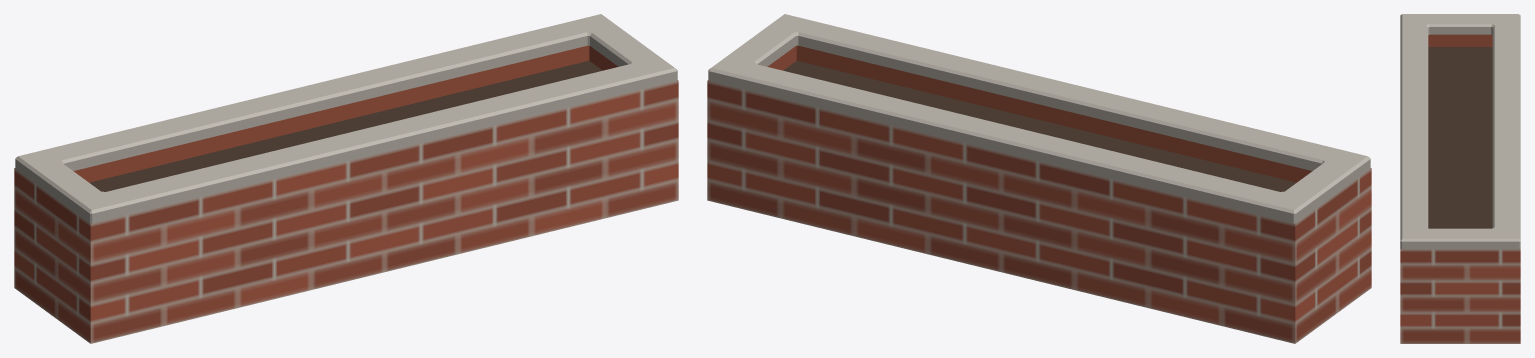
The model's file is SM_Street_PlanterBed_Brick_200_01.fbx.
The picture shows the model from 3 angles, left to right: view 1: azimuth 30°, elevation 25°; view 2: azimuth 150°, elevation 25°; view 3: azimuth 270°, elevation 25°; orthographic projection. The views are drawn at different scales.
Parts seen in each view (by area): view 1: SM_Street_PlanterBed_Brick_200_01; view 2: SM_Street_PlanterBed_Brick_200_01; view 3: SM_Street_PlanterBed_Brick_200_01.
Part boxes in pixels (<box>): SM_Street_PlanterBed_Brick_200_01: <box>14,14,678,343</box>; SM_Street_PlanterBed_Brick_200_01: <box>707,14,1371,343</box>; SM_Street_PlanterBed_Brick_200_01: <box>1400,14,1520,343</box>.
Bounding box in the file's own units: 2 × 0.43 × 0.45.
Materials: 1 (1 with a texture image).
